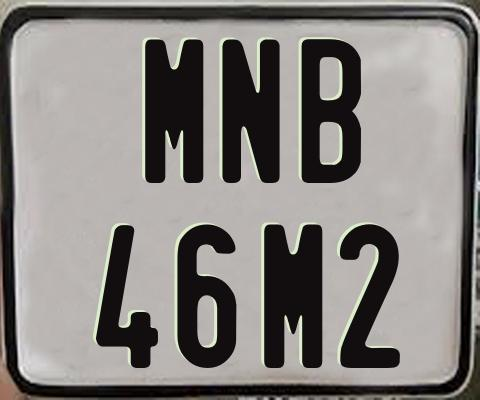2: (340, 224, 400, 372)
4: (93, 224, 158, 370)
6: (176, 222, 238, 372)
B: (300, 36, 360, 180)
M: (263, 221, 327, 371), (143, 38, 203, 188)
N: (221, 39, 280, 188)
